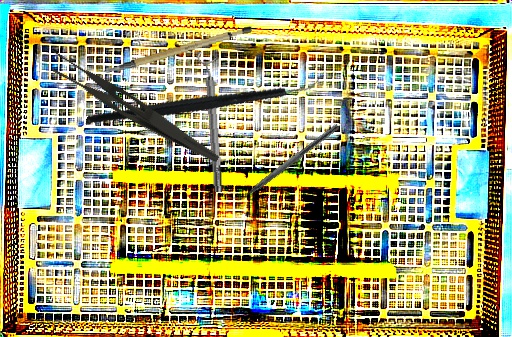Chopper: (85, 25, 325, 171), (226, 116, 341, 210)
Dressing Forceps: (39, 46, 230, 165)
Fixation Ring: (196, 50, 229, 193)
Scalpel Handle: (98, 23, 256, 75)
